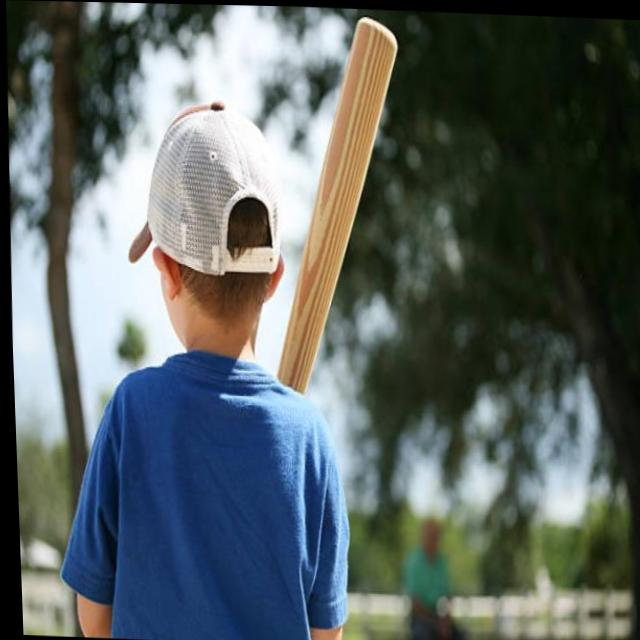no helmet: (105, 85, 308, 370)
